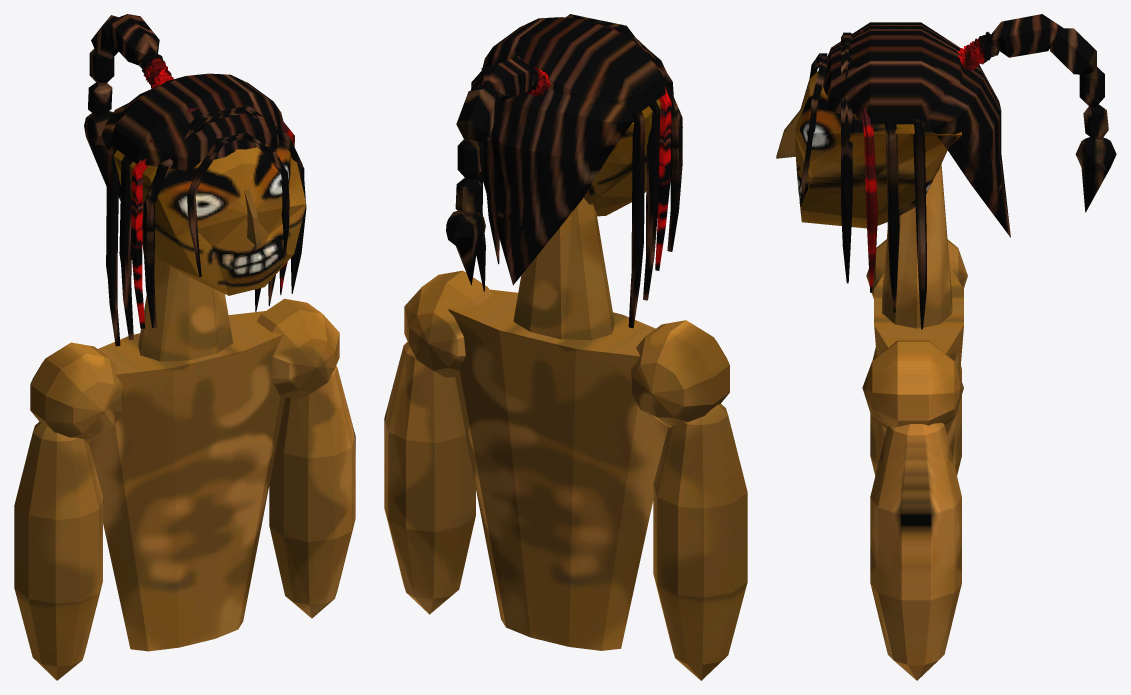
File: Gulibulu.glb
The picture shows the model from 3 angles, left to right: view 1: azimuth 30°, elevation 25°; view 2: azimuth 150°, elevation 25°; view 3: azimuth 270°, elevation 25°; orthographic projection. The views are drawn at different scales.
Visible parts, largest first — view 1: Gulibulu; view 2: Gulibulu; view 3: Gulibulu.
Part boxes in pixels (bbox=[...]): Gulibulu: bbox=[14, 14, 355, 680]; Gulibulu: bbox=[384, 14, 747, 680]; Gulibulu: bbox=[776, 14, 1116, 680].
Size of the model in its own units: 63.73 by 110 by 56.27.
1 material, 1 textured.
